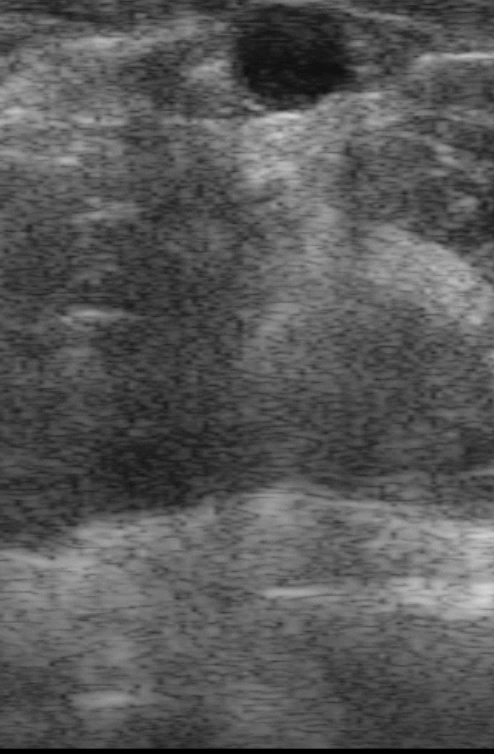veins_detect: (224, 2, 367, 117)
veins_seg: (234, 4, 348, 107)
